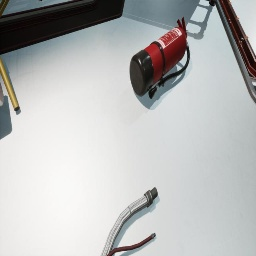0: (0, 82, 4, 107), (252, 82, 256, 86)
FireExtinguisher ]: (129, 17, 190, 99)
